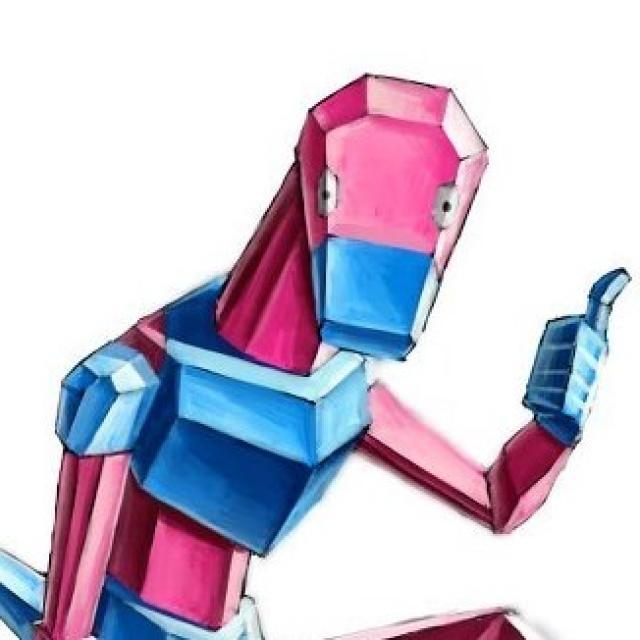Porygon: (125, 67, 496, 529)
